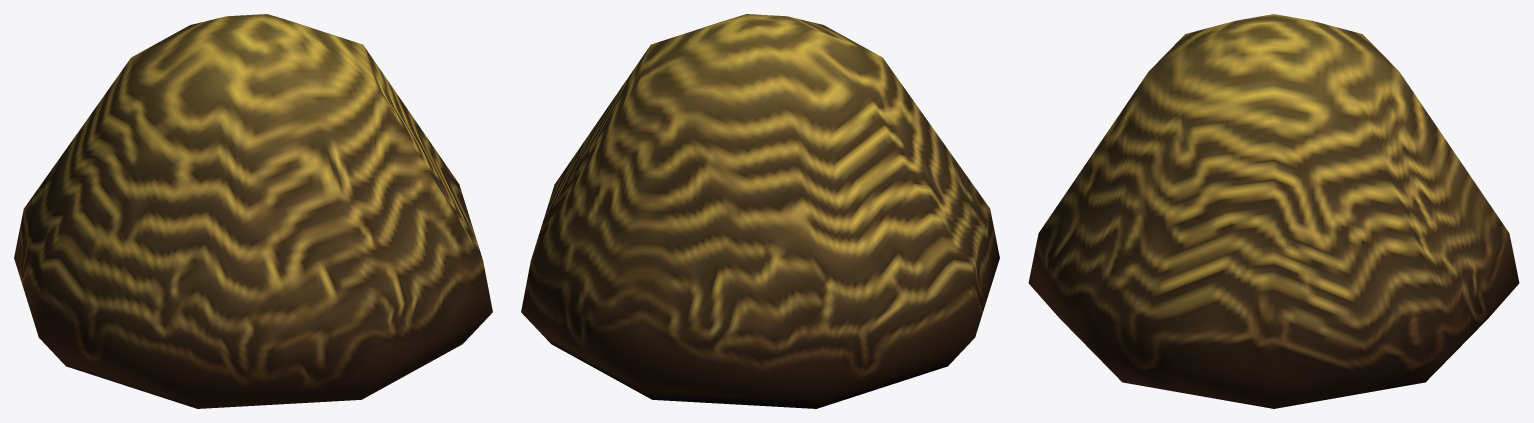
Rendered from Coral_26.FBX.
3 views of the same model, side by side, from view 1: azimuth 30°, elevation 25°; view 2: azimuth 150°, elevation 25°; view 3: azimuth 270°, elevation 25° (orthographic).
Parts seen in each view (by area): view 1: Coral_26; view 2: Coral_26; view 3: Coral_26.
Part boxes in pixels (x1,y1,x2,y2): Coral_26: (14, 14, 492, 408); Coral_26: (521, 14, 999, 408); Coral_26: (1028, 14, 1519, 408).
Size of the model in its own units: 17.85 by 11.69 by 17.85.
